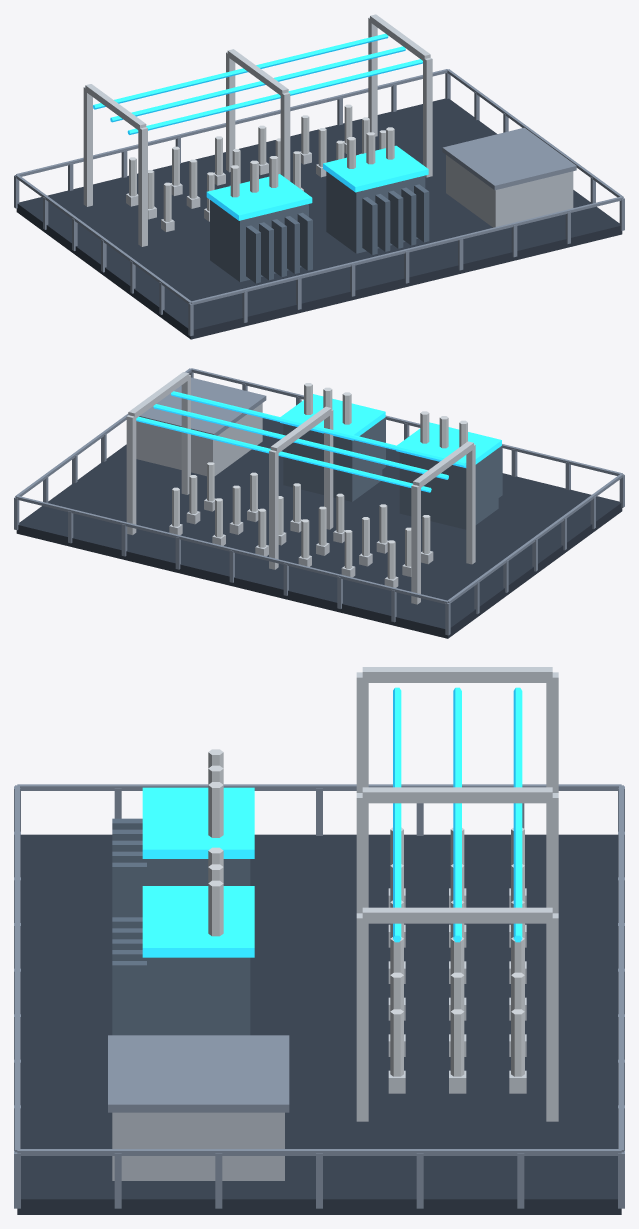
The model's file is substation.glb.
3 views of the same model, one above another, from view 1: azimuth 30°, elevation 25°; view 2: azimuth 150°, elevation 25°; view 3: azimuth 270°, elevation 25° (orthographic). The views are drawn at different scales.
Visible parts, largest first — view 1: substation; view 2: substation; view 3: substation.
Boxes of the visible parts, x1,y1,x2,y2 form: substation: (14, 14, 624, 339); substation: (14, 368, 624, 638); substation: (14, 667, 624, 1214).
Bounding box in the file's own units: 1.01 × 0.287 × 0.708.
